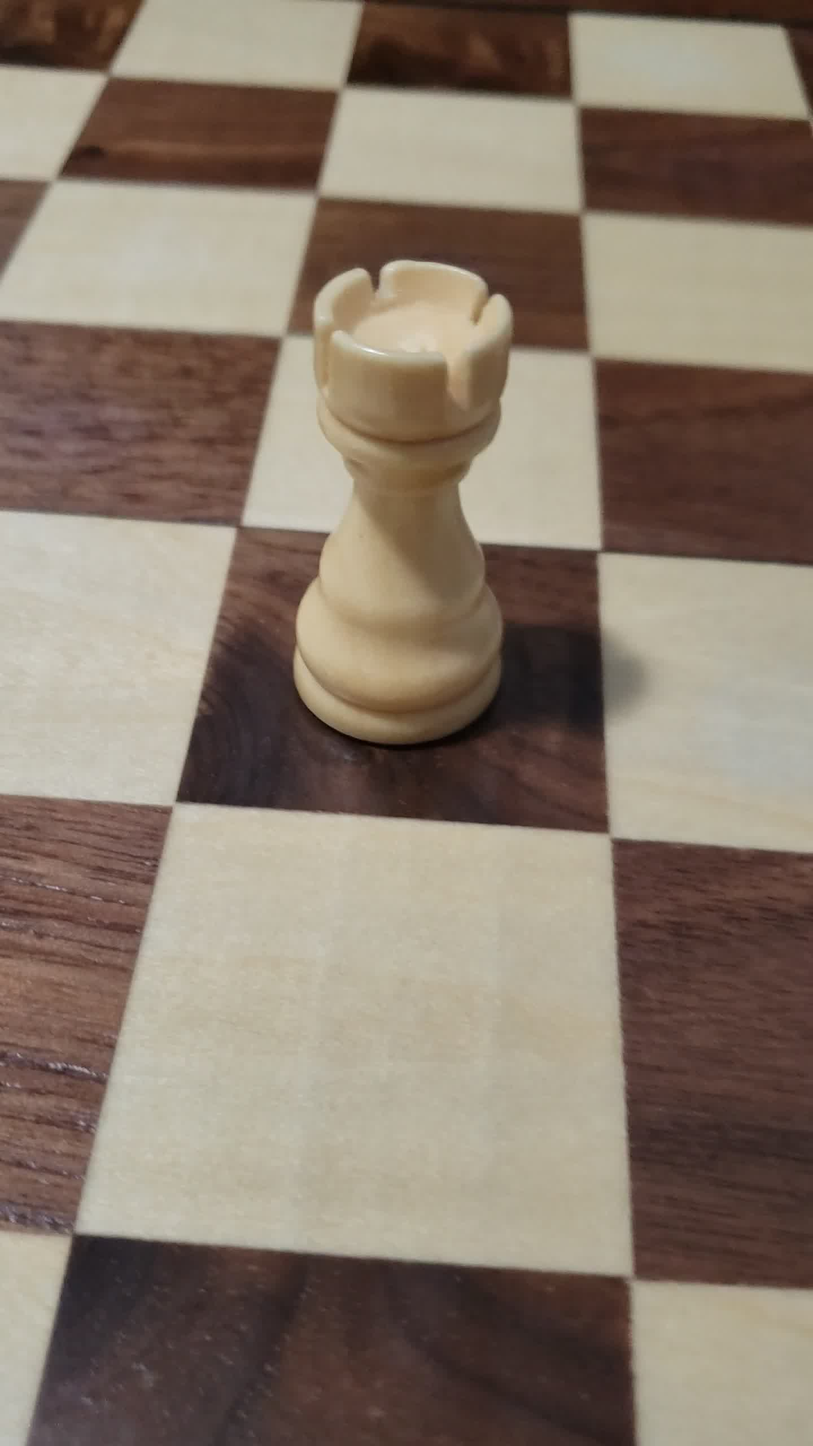white-rook: (246, 195, 550, 748)
